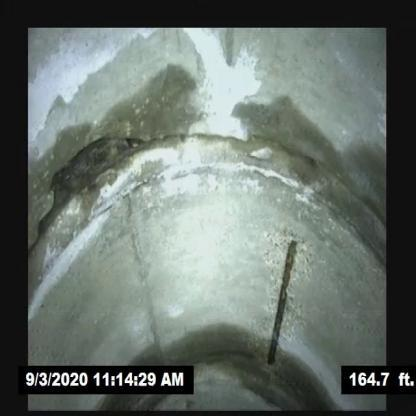Hole: (34, 112, 145, 235)
